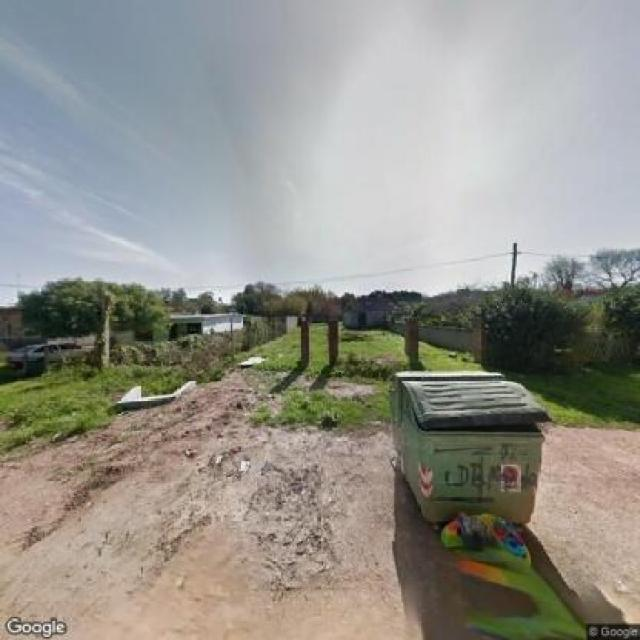garbage: (439, 502, 525, 569)
